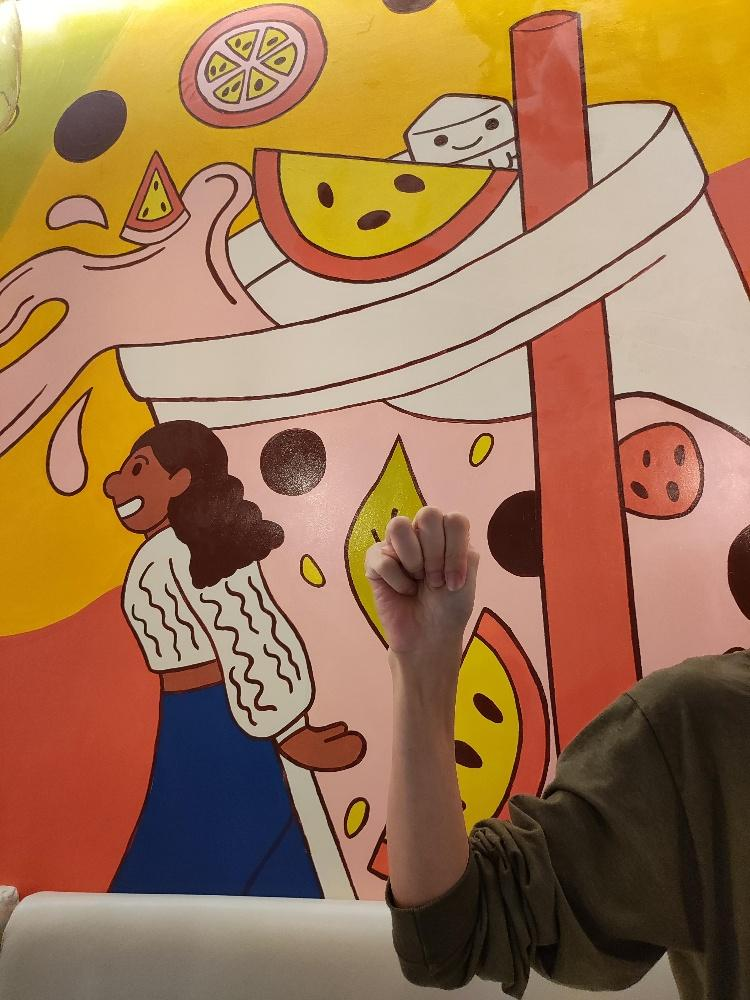m: (361, 502, 482, 654)
